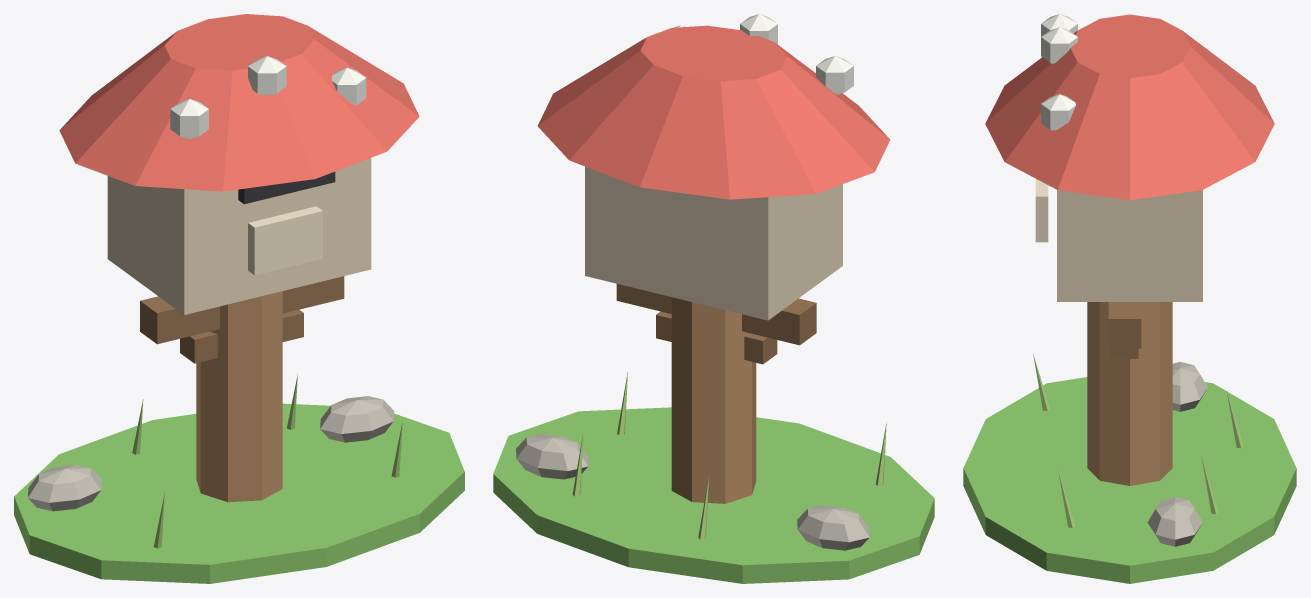
3 renders of one model, left to right at view 1: azimuth 30°, elevation 25°; view 2: azimuth 150°, elevation 25°; view 3: azimuth 270°, elevation 25°, orthographic. The views are drawn at different scales.
Visible parts, largest first — view 1: round grass base, broad red mushroom roof, cream mushroom mailbox body, short rounded wooden post, front letter flap, chunky cross support, small rock, small rock.001, small lower brace, big clean mushroom roof dot.001, big clean mushroom roof dot.002, wide black slot (+1 smaller); view 2: round grass base, broad red mushroom roof, cream mushroom mailbox body, short rounded wooden post, chunky cross support, small rock.001, small rock, small lower brace, big clean mushroom roof dot.001, big clean mushroom roof dot.002; view 3: round grass base, broad red mushroom roof, cream mushroom mailbox body, short rounded wooden post, small rock, chunky cross support, small rock.001, big clean mushroom roof dot, big clean mushroom roof dot.002, front letter flap, big clean mushroom roof dot.001.
Boxes of the visible parts, <box> form: round grass base: <box>14,403,464,583</box>; broad red mushroom roof: <box>59,14,419,191</box>; cream mushroom mailbox body: <box>107,158,371,314</box>; short rounded wooden post: <box>196,291,282,502</box>; front letter flap: <box>248,206,322,275</box>; chunky cross support: <box>140,276,344,344</box>; small rock: <box>320,396,394,442</box>; small rock.001: <box>28,465,101,511</box>; small lower brace: <box>180,309,303,363</box>; big clean mushroom roof dot.001: <box>170,99,208,138</box>; big clean mushroom roof dot.002: <box>248,56,286,95</box>; wide black slot: <box>238,171,335,204</box>; round grass base: <box>493,407,934,583</box>; broad red mushroom roof: <box>538,25,890,199</box>; cream mushroom mailbox body: <box>585,166,842,320</box>; short rounded wooden post: <box>671,297,756,503</box>; chunky cross support: <box>616,284,816,345</box>; small rock.001: <box>797,505,869,550</box>; small rock: <box>516,434,588,479</box>; small lower brace: <box>656,311,777,364</box>; big clean mushroom roof dot.001: <box>816,56,853,94</box>; big clean mushroom roof dot.002: <box>740,14,777,43</box>; round grass base: <box>963,377,1296,583</box>; broad red mushroom roof: <box>985,14,1274,200</box>; cream mushroom mailbox body: <box>1057,190,1202,301</box>; short rounded wooden post: <box>1087,302,1172,485</box>; small rock: <box>1147,496,1202,546</box>; chunky cross support: <box>1108,302,1141,348</box>; small rock.001: <box>1172,361,1207,411</box>; big clean mushroom roof dot: <box>1041,94,1075,130</box>; big clean mushroom roof dot.002: <box>1041,27,1077,63</box>; front letter flap: <box>1035,179,1048,242</box>; big clean mushroom roof dot.001: <box>1041,14,1077,36</box>.
Size of the model in its own units: 1.84 by 2.01 by 1.32.
